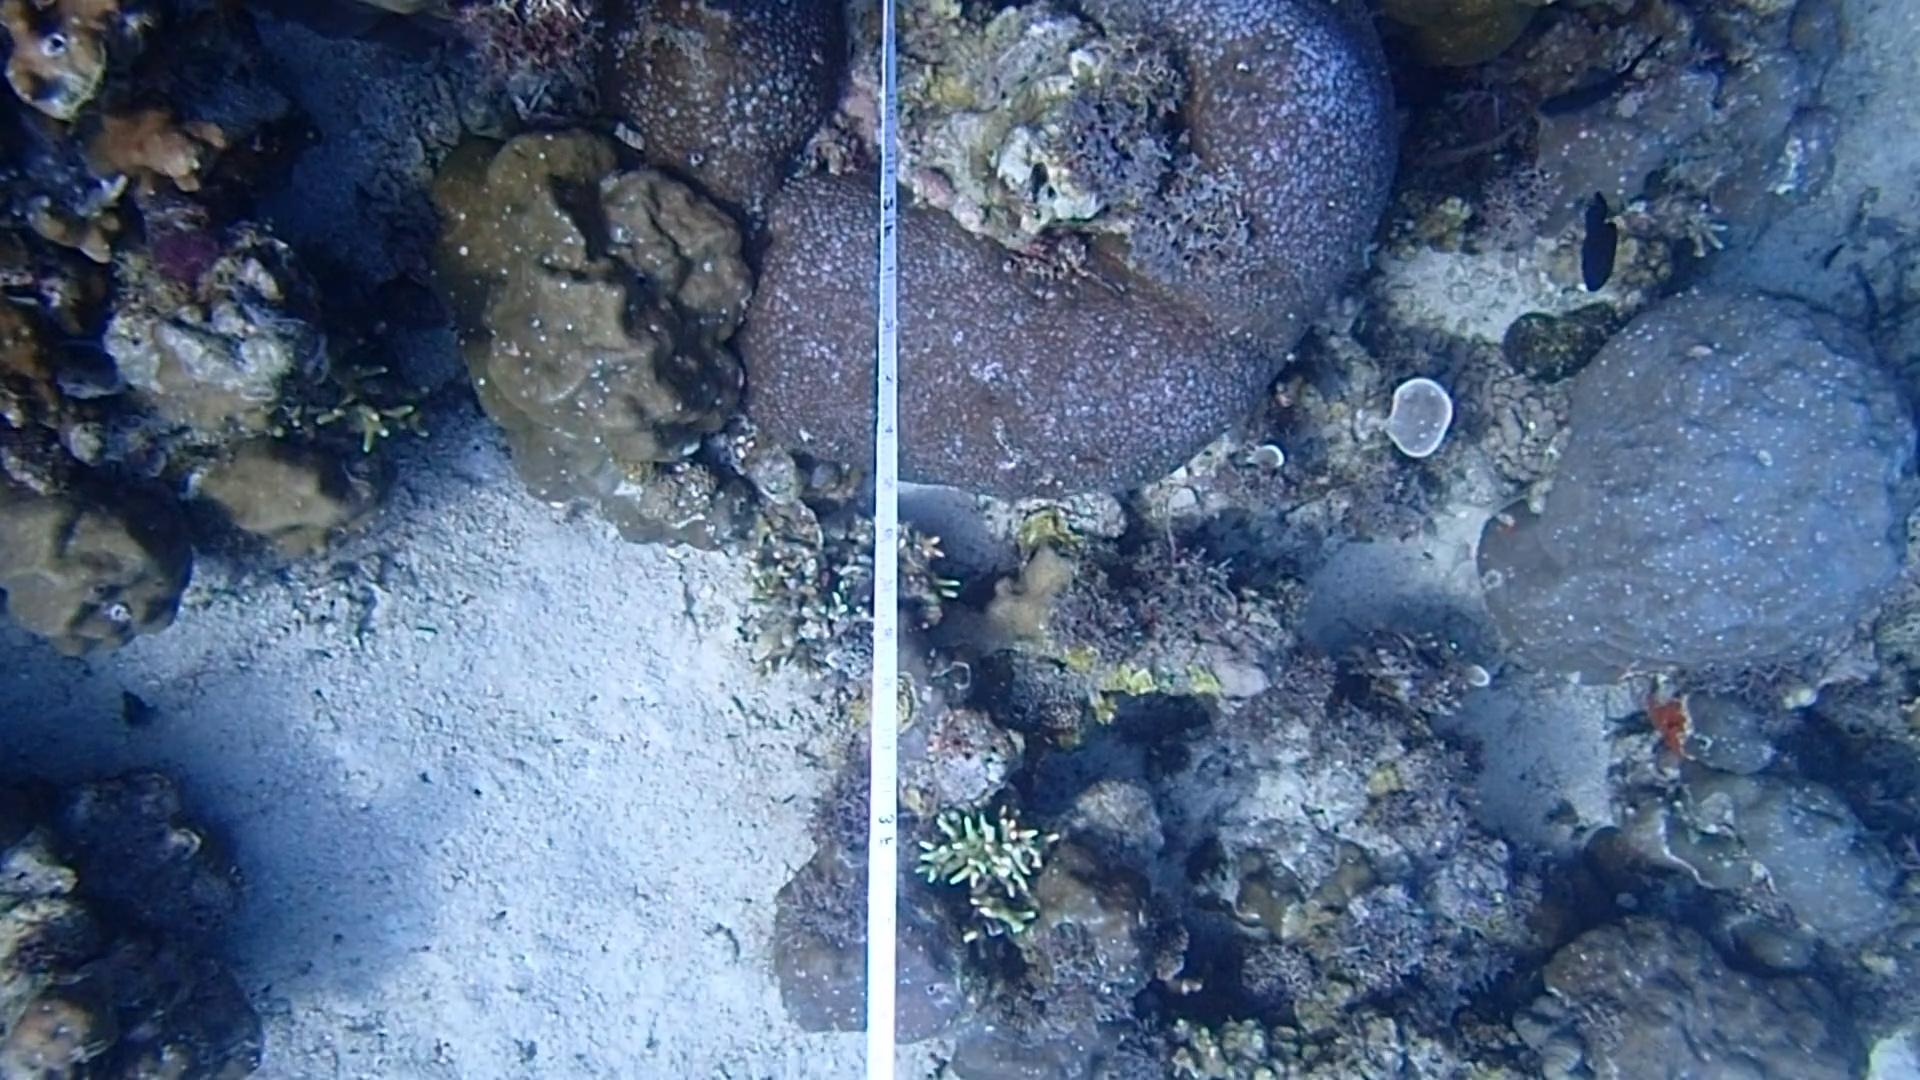Dark Fish: (1567, 189, 1631, 298)
